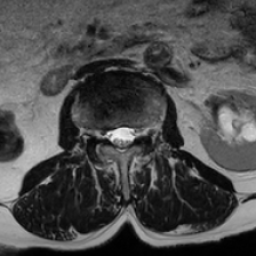CCS_normal: (117, 115, 126, 159)
LFS_normal: (136, 115, 145, 145)
LLS_normal: (126, 115, 136, 154)
RFS_normal: (97, 118, 107, 147)
RLS_normal: (107, 118, 117, 151)
